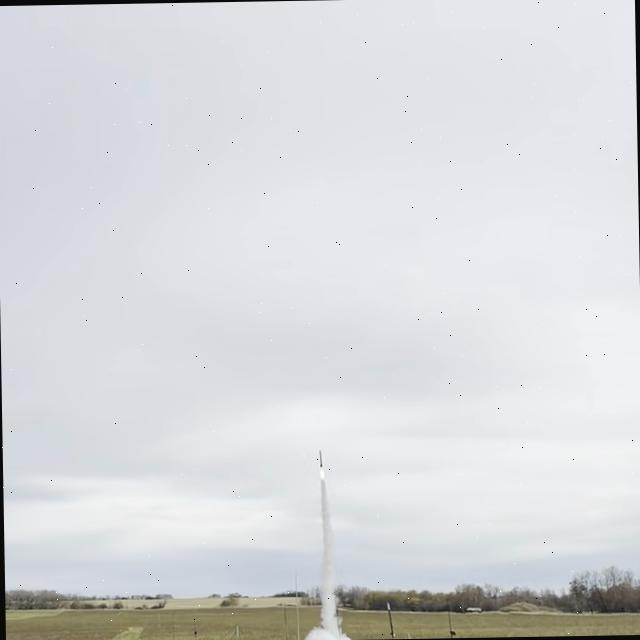smoke_trail_with_rocket: (305, 451, 352, 640)
